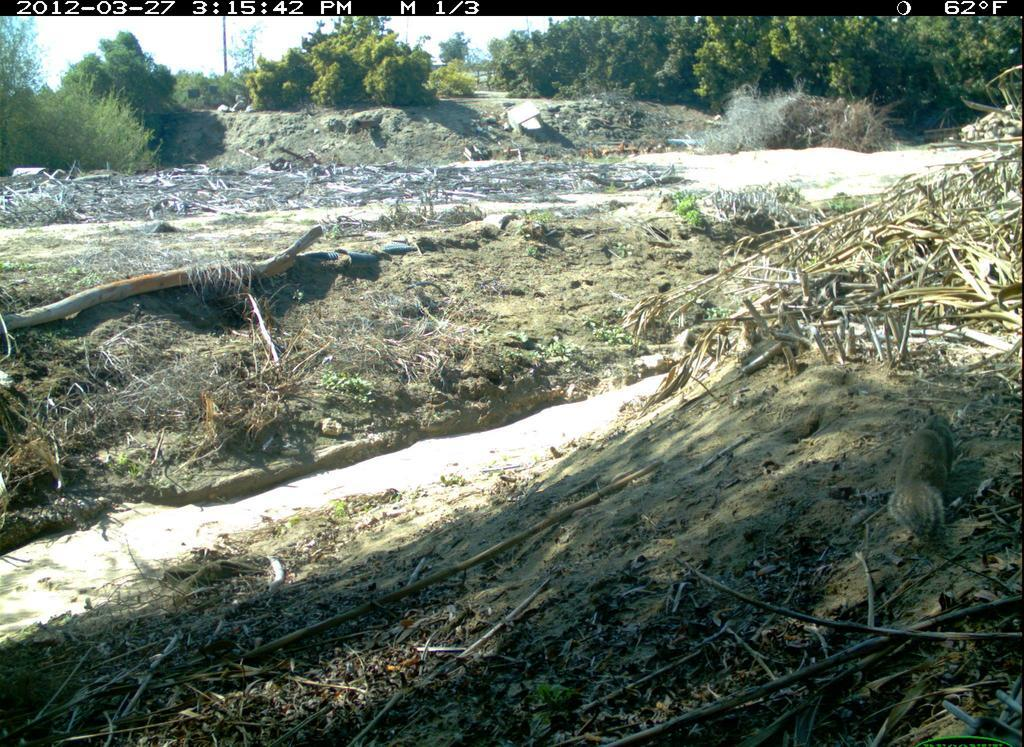squirrel: (877, 406, 961, 542)
